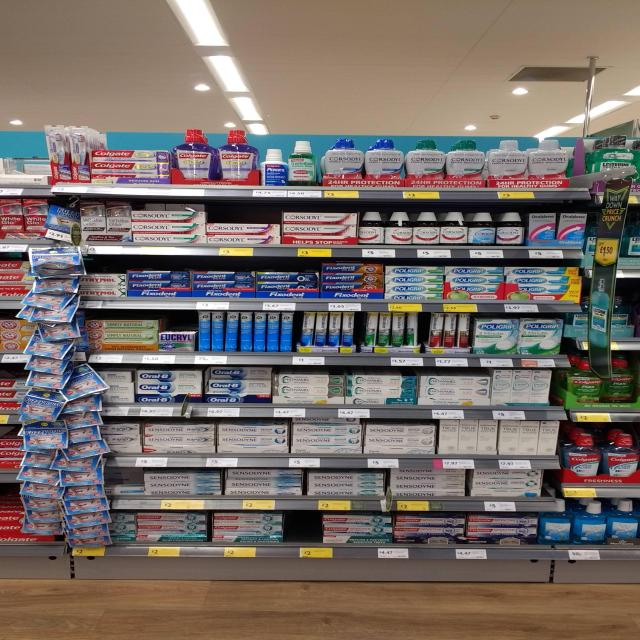empty: (210, 204, 280, 222), (285, 512, 320, 543)
